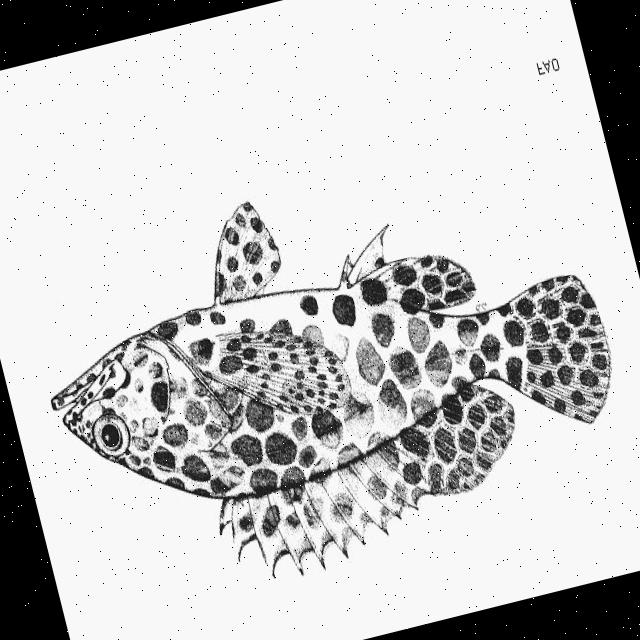ikan: (14, 124, 640, 627)
